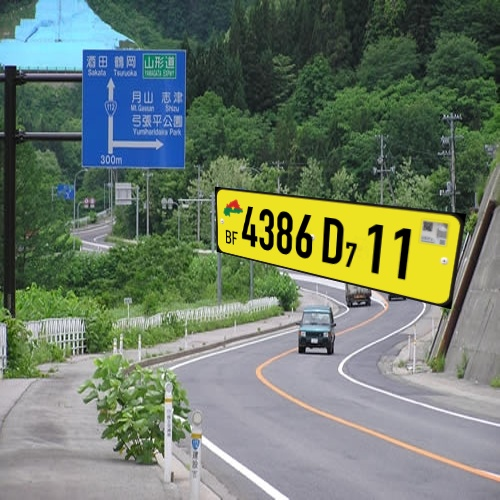plate: (203, 175, 472, 330)
